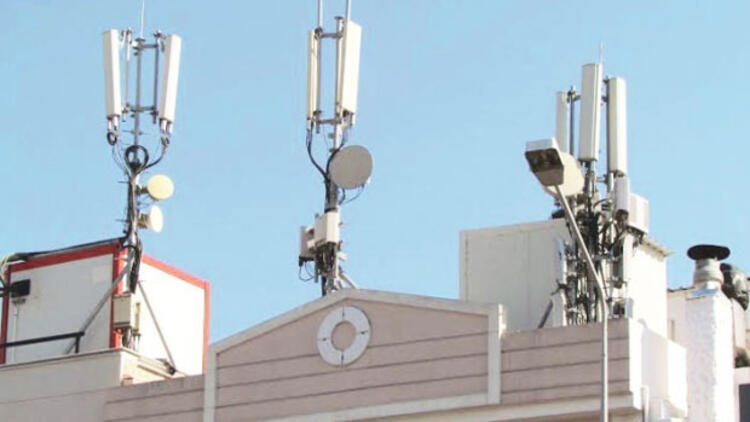a: (607, 76, 631, 174), (340, 21, 360, 115), (161, 34, 181, 122), (580, 62, 596, 160), (100, 30, 118, 114), (305, 31, 319, 118)
b: (328, 145, 371, 186), (147, 173, 174, 200), (145, 207, 162, 232)
